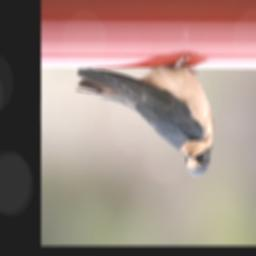Swallow: (74, 47, 215, 182)
